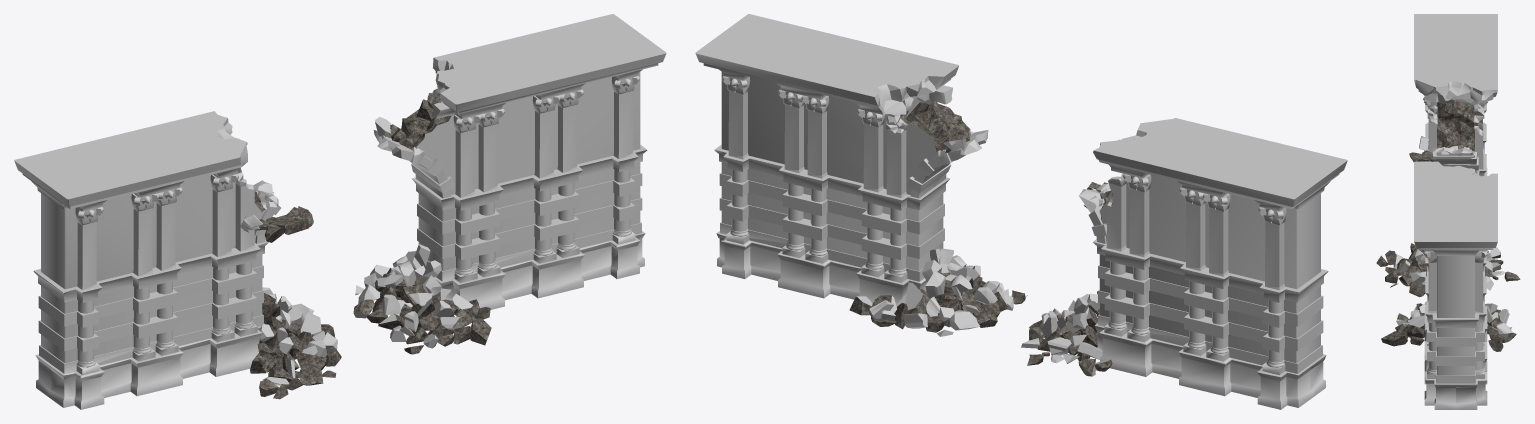
File: Hotelgate2.fbx
The picture shows the model from 3 angles, left to right: view 1: azimuth 30°, elevation 25°; view 2: azimuth 150°, elevation 25°; view 3: azimuth 270°, elevation 25°; orthographic projection. The views are drawn at different scales.
Visible parts, largest first — view 1: LODGroup_2_MainMesh_1_SubMesh_10, LODGroup_2_MainMesh_1_SubMesh_7, LODGroup_2_MainMesh_1_SubMesh_9, LODGroup_2_MainMesh_1_SubMesh_8, LODGroup_2_MainMesh_1_SubMesh_1, LODGroup_2_MainMesh_1_SubMesh_2, LODGroup_2_MainMesh_1_SubMesh_11, LODGroup_2_MainMesh_1_SubMesh_5, LODGroup_2_MainMesh_1_SubMesh_4, LODGroup_2_MainMesh_1_SubMesh_3; view 2: LODGroup_2_MainMesh_1_SubMesh_10, LODGroup_2_MainMesh_1_SubMesh_7, LODGroup_2_MainMesh_1_SubMesh_9, LODGroup_2_MainMesh_1_SubMesh_8, LODGroup_2_MainMesh_1_SubMesh_1, LODGroup_2_MainMesh_1_SubMesh_11, LODGroup_2_MainMesh_1_SubMesh_2, LODGroup_2_MainMesh_1_SubMesh_4, LODGroup_2_MainMesh_1_SubMesh_5, LODGroup_2_MainMesh_1_SubMesh_3; view 3: LODGroup_2_MainMesh_1_SubMesh_9, LODGroup_2_MainMesh_1_SubMesh_8, LODGroup_2_MainMesh_1_SubMesh_10, LODGroup_2_MainMesh_1_SubMesh_7, LODGroup_2_MainMesh_1_SubMesh_2, LODGroup_2_MainMesh_1_SubMesh_1, LODGroup_2_MainMesh_1_SubMesh_4, LODGroup_2_MainMesh_1_SubMesh_5, LODGroup_2_MainMesh_1_SubMesh_11, LODGroup_2_MainMesh_1_SubMesh_3.
Part boxes in pixels (x1,y1,x2,y2): LODGroup_2_MainMesh_1_SubMesh_10: [38, 76, 642, 367]; LODGroup_2_MainMesh_1_SubMesh_7: [41, 72, 640, 363]; LODGroup_2_MainMesh_1_SubMesh_9: [15, 15, 663, 197]; LODGroup_2_MainMesh_1_SubMesh_8: [14, 14, 666, 373]; LODGroup_2_MainMesh_1_SubMesh_1: [35, 231, 645, 409]; LODGroup_2_MainMesh_1_SubMesh_2: [250, 266, 491, 399]; LODGroup_2_MainMesh_1_SubMesh_11: [259, 244, 473, 385]; LODGroup_2_MainMesh_1_SubMesh_5: [238, 93, 450, 242]; LODGroup_2_MainMesh_1_SubMesh_4: [216, 58, 453, 239]; LODGroup_2_MainMesh_1_SubMesh_3: [261, 262, 459, 384]; LODGroup_2_MainMesh_1_SubMesh_10: [719, 76, 1323, 367]; LODGroup_2_MainMesh_1_SubMesh_7: [721, 72, 1320, 363]; LODGroup_2_MainMesh_1_SubMesh_9: [698, 15, 1344, 199]; LODGroup_2_MainMesh_1_SubMesh_8: [695, 14, 1347, 373]; LODGroup_2_MainMesh_1_SubMesh_1: [716, 231, 1326, 409]; LODGroup_2_MainMesh_1_SubMesh_11: [871, 248, 1102, 363]; LODGroup_2_MainMesh_1_SubMesh_2: [849, 266, 1112, 376]; LODGroup_2_MainMesh_1_SubMesh_4: [874, 76, 1146, 239]; LODGroup_2_MainMesh_1_SubMesh_5: [900, 97, 1111, 218]; LODGroup_2_MainMesh_1_SubMesh_3: [870, 264, 1102, 362]; LODGroup_2_MainMesh_1_SubMesh_9: [1414, 14, 1497, 240]; LODGroup_2_MainMesh_1_SubMesh_8: [1414, 14, 1497, 383]; LODGroup_2_MainMesh_1_SubMesh_10: [1423, 97, 1488, 373]; LODGroup_2_MainMesh_1_SubMesh_7: [1411, 122, 1474, 375]; LODGroup_2_MainMesh_1_SubMesh_2: [1376, 243, 1520, 351]; LODGroup_2_MainMesh_1_SubMesh_1: [1424, 168, 1487, 409]; LODGroup_2_MainMesh_1_SubMesh_4: [1414, 80, 1497, 176]; LODGroup_2_MainMesh_1_SubMesh_5: [1409, 101, 1474, 162]; LODGroup_2_MainMesh_1_SubMesh_11: [1394, 249, 1513, 337]; LODGroup_2_MainMesh_1_SubMesh_3: [1393, 253, 1510, 333].
Size of the model in its own units: 3813 by 1395 by 1021.
